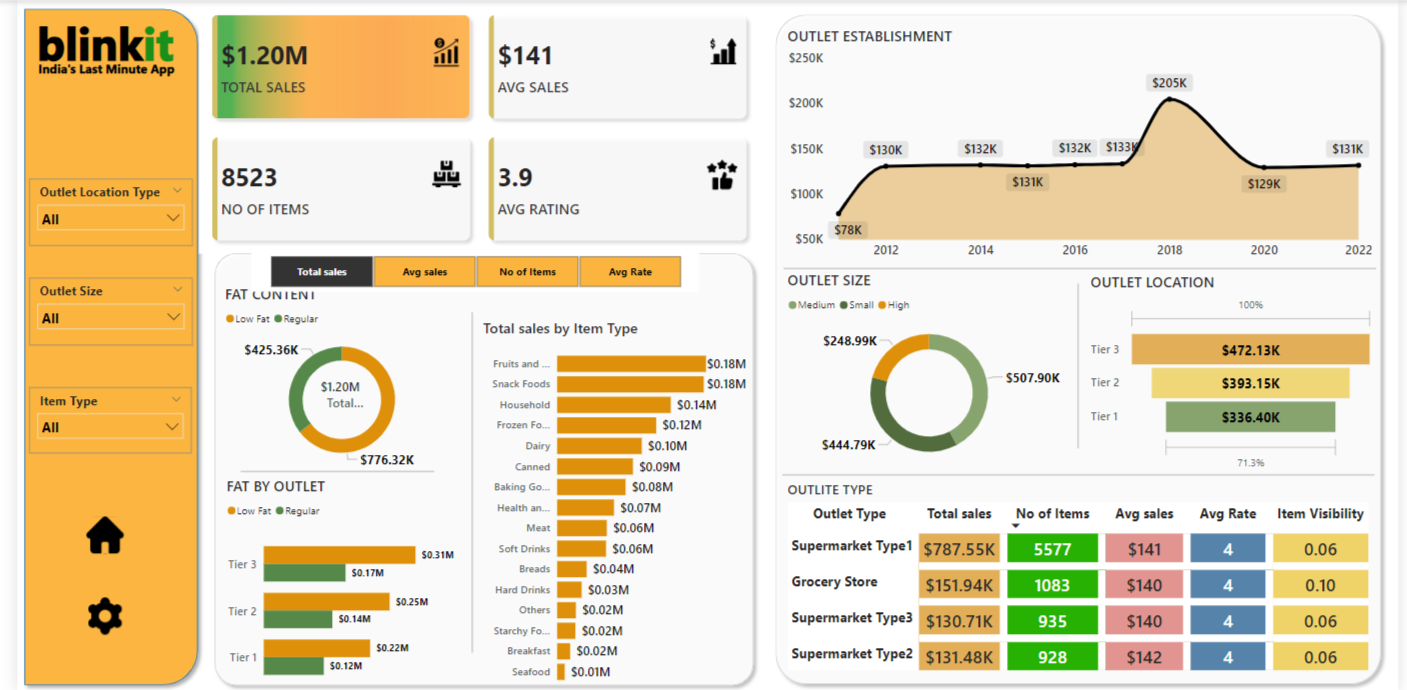

Layout of this report page (visuals, bound fields, positions):
{"tool":"powerbi","page":{"name":"Overview","canvas":[1800,900],"ordinal":0},"visuals":[{"type":"shape","box":[0,1.2,244.2,899],"z":0},{"type":"textbox","box":[15,9,197.9,114.4],"z":1000},{"type":"textbox","box":[9,72.6,212.4,32.7],"z":2000},{"type":"cardVisual","fields":{"Data":["BlinkIT Grocery Data.Total sales","BlinkIT Grocery Data.Avg sales","BlinkIT Grocery Data.No of Items","BlinkIT Grocery Data.Avg Rate"]},"box":[236.8,1.9,730.8,328.1],"z":3000},{"type":"shape","box":[247.5,319.7,719.7,581],"z":4000},{"type":"donutChart","title":"FAT CONTENT","fields":{"Y":["BlinkIT Grocery Data.Total sales"],"Category":["BlinkIT Grocery Data.Item Fat Content"]},"box":[266,369.1,313.5,247.5],"z":5000},{"type":"slicer","fields":{"Values":["Metrics.Metrics"]},"box":[305.2,325.8,583.6,53.6],"z":6000},{"type":"cardVisual","fields":{"Data":["BlinkIT Grocery Data.Total sales"]},"box":[367.3,474.8,107.5,72.3],"z":7000},{"type":"clusteredBarChart","title":"FAT BY OUTLET","fields":{"Y":["BlinkIT Grocery Data.Total sales"],"Series":["BlinkIT Grocery Data.Item Fat Content"],"Category":["BlinkIT Grocery Data.Outlet Location Type"]},"box":[267.5,619.4,307.6,290.8],"z":8000},{"type":"shape","box":[291.7,598.9,251.7,28],"z":9000},{"type":"shape","box":[581.6,406.3,20.6,443.4],"z":10000},{"type":"barChart","fields":{"Y":["BlinkIT Grocery Data.Total sales"],"Category":["BlinkIT Grocery Data.Item Type"]},"box":[602.2,414.5,352.6,486.7],"z":11000},{"type":"shape","box":[979.6,10.3,806.3,890],"z":12000},{"type":"lineChart","title":"OUTLET ESTABLISHMENT","fields":{"Category":["BlinkIT Grocery Data.Outlet Establishment Year"],"Y":["BlinkIT Grocery Data.Total sales"]},"box":[998.1,33,771.3,313.5],"z":13000},{"type":"shape","box":[998.1,336.2,771.3,26.8],"z":14000},{"type":"donutChart","title":"OUTLET SIZE","fields":{"Y":["BlinkIT Grocery Data.Total sales"],"Category":["BlinkIT Grocery Data.Outlet Size"]},"box":[997.5,352.1,378,264.7],"z":15000},{"type":"shape","box":[1375.5,369.1,12.4,214.5],"z":16000},{"type":"funnel","title":"OUTLET LOCATION","fields":{"Category":["BlinkIT Grocery Data.Outlet Location Type"],"Y":["BlinkIT Grocery Data.Total sales"]},"box":[1392.2,354.2,378,264.4],"z":17000},{"type":"shape","box":[996.1,604.2,771.3,28.9],"z":18000},{"type":"pivotTable","title":"OUTLITE TYPE","fields":{"Rows":["BlinkIT Grocery Data.Outlet Type"],"Values":["BlinkIT Grocery Data.Total sales","BlinkIT Grocery Data.No of Items","BlinkIT Grocery Data.Avg sales","BlinkIT Grocery Data.Avg Rate","Avg(BlinkIT Grocery Data.Item Visibility)"]},"box":[998.1,624.9,769.2,266],"z":19000},{"type":"slicer","fields":{"Values":["BlinkIT Grocery Data.Outlet Location Type"]},"box":[15.3,232.2,212.5,87.6],"z":20000},{"type":"slicer","fields":{"Values":["BlinkIT Grocery Data.Outlet Size"]},"box":[15.6,361.4,213,87.9],"z":21000},{"type":"slicer","fields":{"Values":["BlinkIT Grocery Data.Item Type"]},"box":[15.6,504.1,211,86],"z":22000},{"type":"actionButton","box":[86,668.2,62.5,56.7],"z":23000},{"type":"actionButton","box":[86,773.7,62.5,56.7],"z":24000}]}

Visuals, with their boxes in screenshot pixels (x1, y1, x2, y2), scaled from the page's 1800x900 canvas onto the 1407x690 screenshot:
shape: bbox=(0, 1, 191, 689)
textbox: bbox=(12, 7, 166, 95)
textbox: bbox=(7, 56, 173, 81)
cardVisual - BlinkIT Grocery Data.Total sales x BlinkIT Grocery Data.Avg sales: bbox=(185, 1, 756, 253)
shape: bbox=(193, 245, 756, 689)
"FAT CONTENT" donutChart: bbox=(208, 283, 453, 473)
slicer - Metrics.Metrics: bbox=(239, 250, 695, 291)
cardVisual - BlinkIT Grocery Data.Total sales: bbox=(287, 364, 371, 419)
"FAT BY OUTLET" clusteredBarChart: bbox=(209, 475, 450, 689)
shape: bbox=(228, 459, 425, 481)
shape: bbox=(455, 311, 471, 651)
barChart - BlinkIT Grocery Data.Total sales x BlinkIT Grocery Data.Item Type: bbox=(471, 318, 746, 689)
shape: bbox=(766, 8, 1396, 689)
"OUTLET ESTABLISHMENT" lineChart: bbox=(780, 25, 1383, 266)
shape: bbox=(780, 258, 1383, 278)
"OUTLET SIZE" donutChart: bbox=(780, 270, 1075, 473)
shape: bbox=(1075, 283, 1085, 447)
"OUTLET LOCATION" funnel: bbox=(1088, 272, 1384, 474)
shape: bbox=(779, 463, 1382, 485)
"OUTLITE TYPE" pivotTable: bbox=(780, 479, 1381, 683)
slicer - BlinkIT Grocery Data.Outlet Location Type: bbox=(12, 178, 178, 245)
slicer - BlinkIT Grocery Data.Outlet Size: bbox=(12, 277, 179, 344)
slicer - BlinkIT Grocery Data.Item Type: bbox=(12, 386, 177, 452)
actionButton: bbox=(67, 512, 116, 556)
actionButton: bbox=(67, 593, 116, 637)
